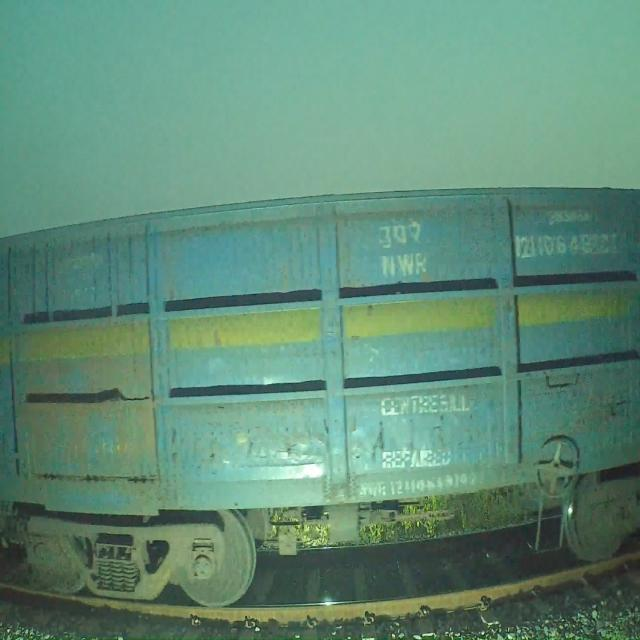WAgon-uic: (0, 186, 639, 606)
uic: (514, 222, 625, 266)
